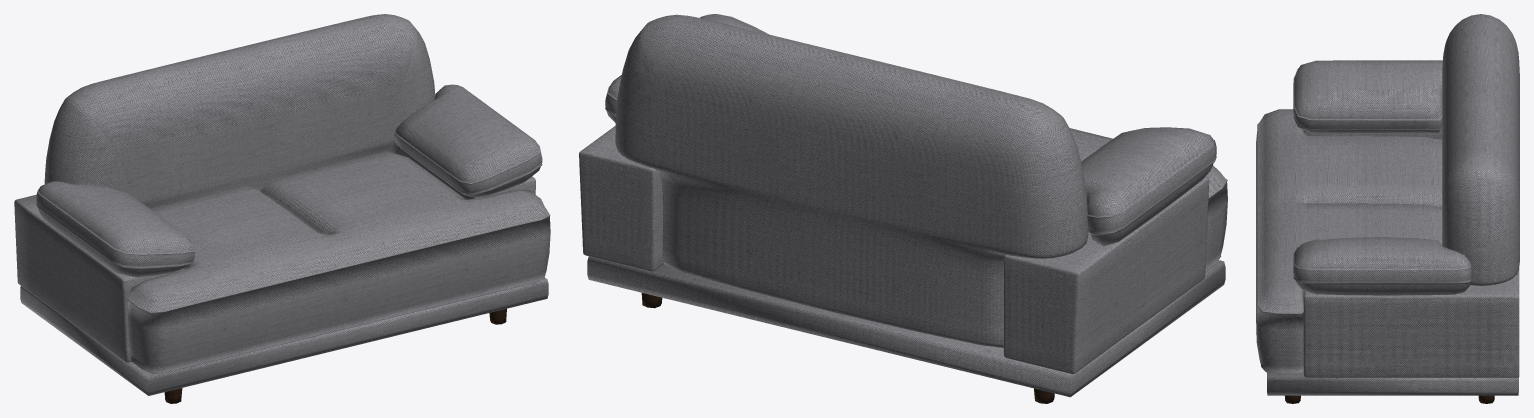
Rendered from design6.obj.
3 renders of one model, left to right at view 1: azimuth 30°, elevation 25°; view 2: azimuth 150°, elevation 25°; view 3: azimuth 270°, elevation 25°, orthographic. The views are drawn at different scales.
Visible parts, largest first — view 1: Plane015, Box026, Plane013, Plane011, Plane009, Box027; view 2: Box026, Plane011, Plane009, Plane013, Plane015; view 3: Plane015, Plane013, Box026, Plane011, Plane009, Box027.
Part boxes in pixels (bbox=[...]): Plane015: bbox=[127, 151, 550, 373]; Box026: bbox=[44, 14, 435, 208]; Plane013: bbox=[36, 84, 542, 277]; Plane011: bbox=[14, 146, 535, 362]; Plane009: bbox=[20, 278, 548, 395]; Box027: bbox=[164, 308, 506, 403]; Box026: bbox=[615, 14, 1088, 347]; Plane011: bbox=[579, 126, 1209, 374]; Plane009: bbox=[587, 256, 1225, 397]; Plane013: bbox=[605, 14, 1216, 245]; Plane015: bbox=[1069, 128, 1227, 271]; Plane015: bbox=[1256, 109, 1442, 373]; Plane013: bbox=[1293, 60, 1472, 295]; Box026: bbox=[1442, 14, 1519, 285]; Plane011: bbox=[1303, 128, 1519, 377]; Plane009: bbox=[1267, 372, 1518, 395]; Box027: bbox=[1285, 395, 1494, 403].
Size of the model in its own units: 1414 by 761 by 764.
Materials: 2 (2 with a texture image).
